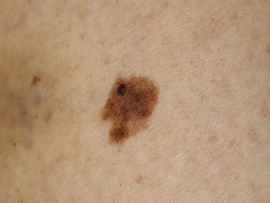Melanoma: (99, 75, 160, 145)
